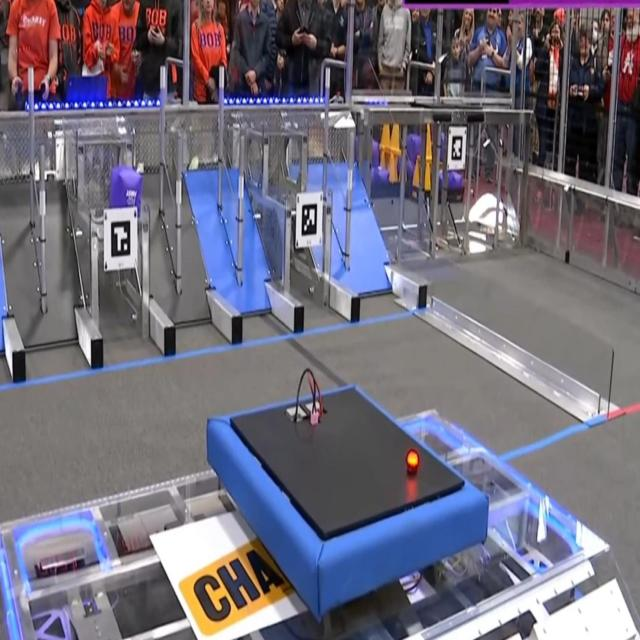frc_cone: (390, 120, 401, 155), (422, 126, 432, 161), (380, 122, 391, 152), (413, 158, 421, 187), (424, 164, 432, 192), (380, 153, 388, 173), (389, 155, 395, 179)
frc_cube: (109, 167, 141, 218), (407, 134, 422, 160), (369, 136, 378, 168), (401, 157, 413, 179), (451, 171, 462, 194), (439, 133, 448, 160), (378, 165, 389, 183), (370, 161, 379, 182), (437, 170, 444, 194)
